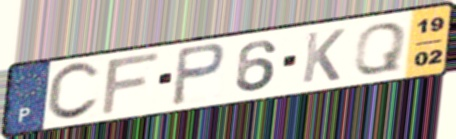6: (236, 39, 279, 93)
C: (43, 60, 103, 124)
F: (98, 49, 164, 118)
K: (299, 26, 348, 85)
P: (168, 41, 228, 108)
Q: (351, 20, 410, 76)
